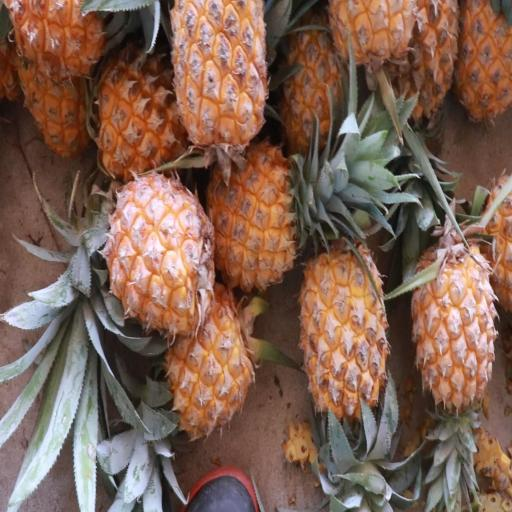Pineapple - v8 v1: (298, 234, 391, 444), (108, 175, 222, 344), (412, 220, 500, 421), (160, 272, 258, 446), (204, 140, 306, 303), (168, 0, 269, 150), (94, 35, 188, 184), (451, 0, 512, 127)
